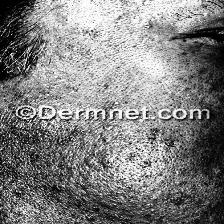Benign Marking or Mole: (0, 124, 206, 224), (64, 2, 155, 77)
